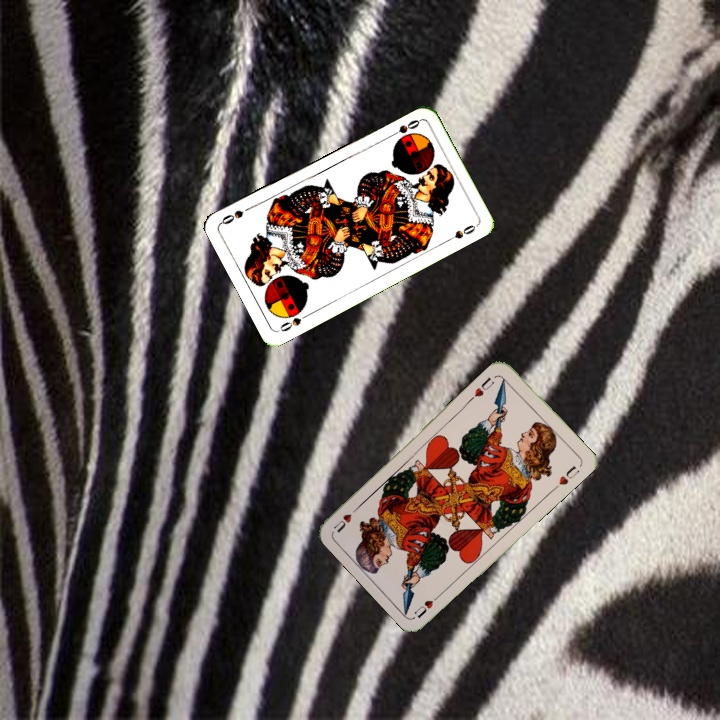HU: (410, 589, 444, 620), (467, 373, 497, 403)
SO: (385, 115, 422, 140), (275, 310, 312, 334)
